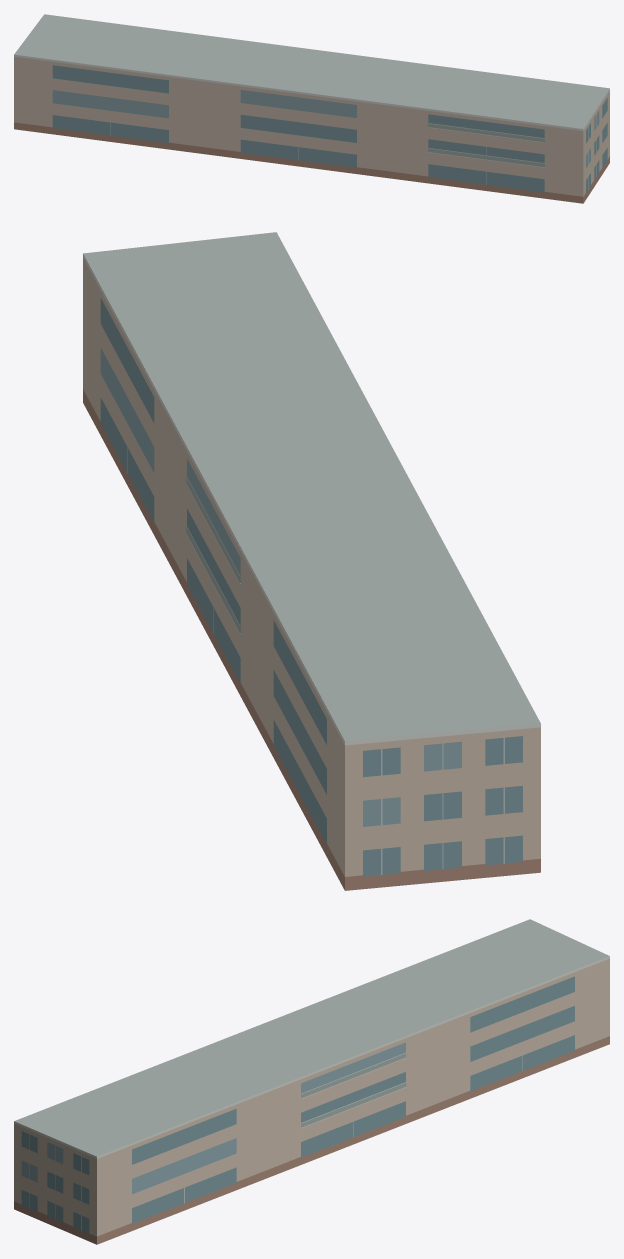
Rendered from survey-upis-32761576.glb.
3 views of the same model, one above another, from view 1: azimuth 30°, elevation 25°; view 2: azimuth 150°, elevation 25°; view 3: azimuth 270°, elevation 25° (orthographic). The views are drawn at different scales.
Visible parts, largest first — view 1: survey-upis-32761576.tmp; view 2: survey-upis-32761576.tmp; view 3: survey-upis-32761576.tmp.
Boxes of the visible parts, x1,y1,x2,y2 form: survey-upis-32761576.tmp: [14, 14, 609, 203]; survey-upis-32761576.tmp: [83, 232, 540, 890]; survey-upis-32761576.tmp: [14, 919, 609, 1244].
Size of the model in its own units: 52.89 by 9.15 by 56.08.
